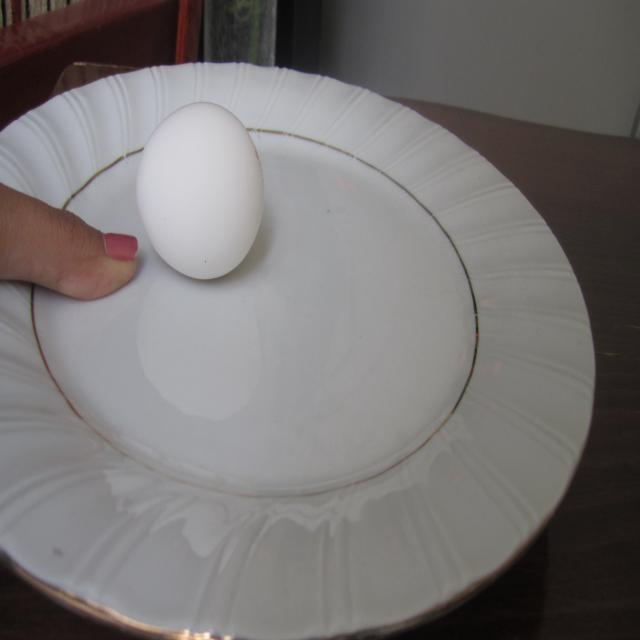egg: (130, 98, 273, 289)
